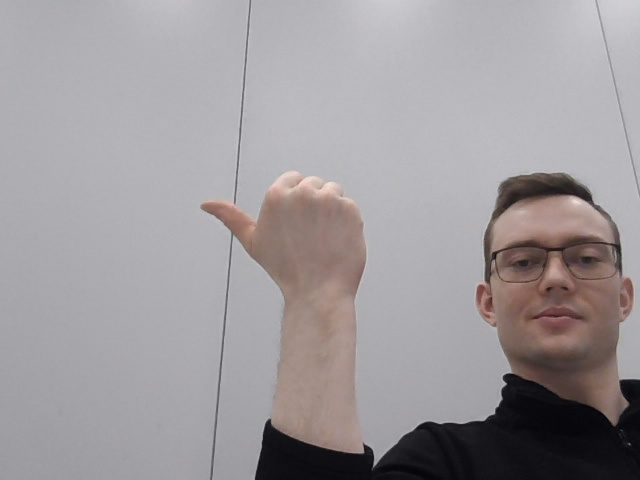right: (190, 157, 407, 312)
